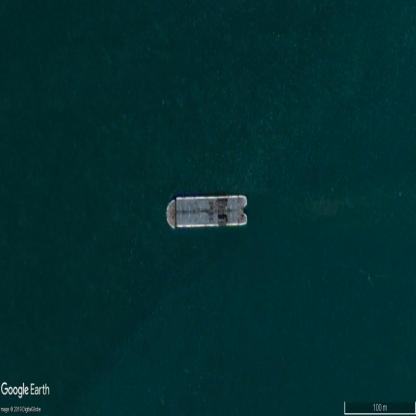ship: (166, 197, 247, 225)
